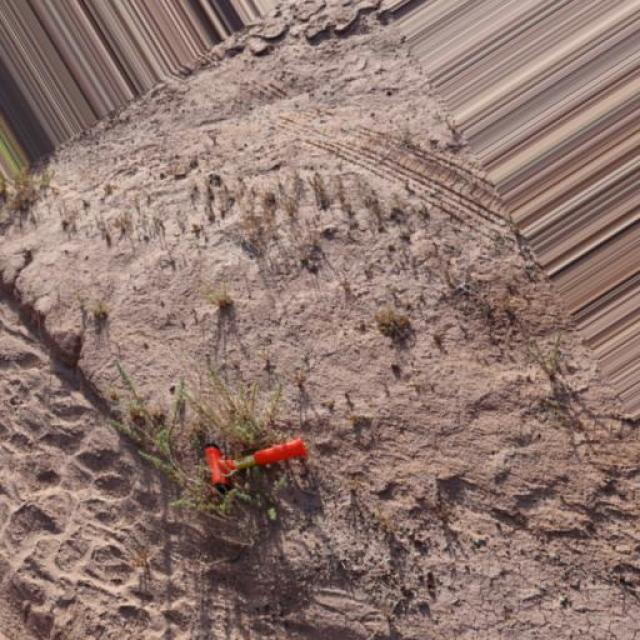mallet: (205, 436, 310, 492)
